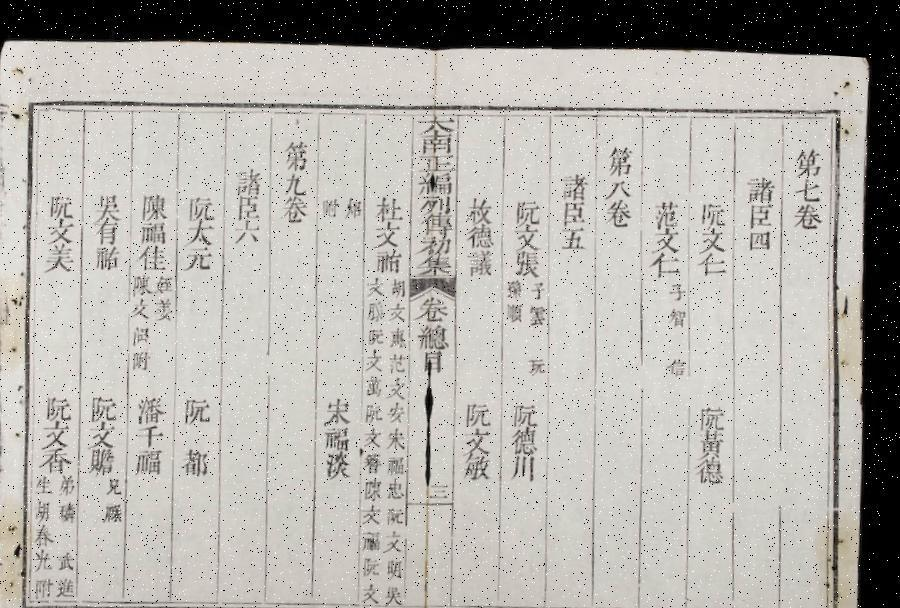c: (604, 134, 640, 170), (280, 132, 315, 168), (233, 160, 268, 195), (139, 186, 174, 221), (138, 390, 174, 424), (792, 133, 828, 167), (44, 240, 80, 274), (418, 314, 456, 345), (326, 388, 360, 422), (186, 390, 220, 424), (44, 418, 80, 450), (464, 419, 500, 451), (417, 288, 455, 318), (604, 188, 638, 221), (183, 442, 218, 474), (512, 417, 547, 449), (744, 163, 780, 194), (650, 241, 688, 270), (420, 204, 459, 232), (465, 186, 498, 219), (513, 187, 546, 220), (651, 188, 684, 221), (374, 186, 408, 218), (374, 214, 408, 246), (280, 190, 314, 222), (45, 391, 80, 422), (90, 418, 125, 449), (512, 445, 547, 476), (184, 215, 220, 245), (791, 190, 827, 220), (417, 124, 457, 151), (43, 445, 80, 474), (417, 164, 458, 190), (466, 240, 499, 272), (92, 390, 125, 422), (327, 444, 360, 476), (186, 189, 220, 220), (138, 444, 172, 475), (92, 444, 126, 475), (699, 418, 733, 449), (698, 446, 733, 476), (559, 163, 592, 194), (93, 189, 126, 220), (466, 391, 499, 422), (184, 241, 218, 271), (417, 107, 459, 131), (418, 247, 458, 272), (233, 214, 266, 244), (466, 446, 499, 476), (698, 216, 731, 246), (513, 242, 546, 272), (47, 216, 80, 246), (138, 241, 172, 270), (697, 242, 732, 270), (94, 242, 126, 272), (514, 392, 546, 422), (514, 216, 546, 246), (93, 216, 125, 246), (466, 215, 499, 244), (374, 241, 407, 270), (651, 218, 685, 246), (418, 228, 457, 252), (702, 392, 732, 422), (699, 189, 730, 218), (747, 191, 778, 220), (794, 166, 826, 194), (560, 216, 592, 244), (560, 192, 592, 220), (140, 217, 173, 244), (139, 420, 172, 447), (418, 188, 458, 210), (48, 190, 78, 219), (235, 190, 266, 218), (416, 148, 459, 168), (282, 166, 312, 194), (327, 420, 358, 447), (604, 168, 636, 194), (746, 217, 777, 243), (423, 343, 451, 370), (39, 520, 64, 546), (106, 497, 132, 522), (61, 497, 86, 522), (388, 522, 412, 548), (133, 294, 157, 320), (389, 446, 414, 470), (133, 320, 158, 344), (133, 270, 158, 294), (390, 368, 413, 394), (367, 444, 390, 470), (368, 470, 391, 496), (156, 292, 178, 319), (368, 342, 390, 369), (669, 344, 693, 368), (40, 574, 64, 598), (366, 548, 390, 572), (669, 296, 693, 320), (366, 420, 390, 444), (367, 395, 391, 419), (366, 496, 390, 520), (38, 546, 62, 570), (389, 420, 413, 444), (322, 190, 345, 215), (345, 190, 367, 216), (530, 294, 552, 320), (667, 270, 690, 294), (367, 523, 390, 547), (60, 574, 84, 597), (390, 498, 414, 521), (367, 575, 390, 599), (528, 348, 553, 370), (392, 319, 414, 344), (62, 471, 84, 496), (368, 368, 390, 393), (38, 497, 60, 522), (134, 345, 156, 370), (391, 345, 413, 370), (390, 471, 412, 495), (390, 549, 412, 573), (369, 294, 391, 318), (390, 295, 412, 319), (390, 394, 412, 418), (390, 577, 412, 600), (62, 547, 84, 570), (508, 270, 529, 294), (369, 270, 390, 294), (156, 270, 178, 292), (108, 474, 130, 496), (40, 472, 61, 495), (434, 476, 458, 496), (391, 270, 411, 294), (508, 294, 529, 316), (370, 321, 391, 343), (531, 272, 550, 294)
